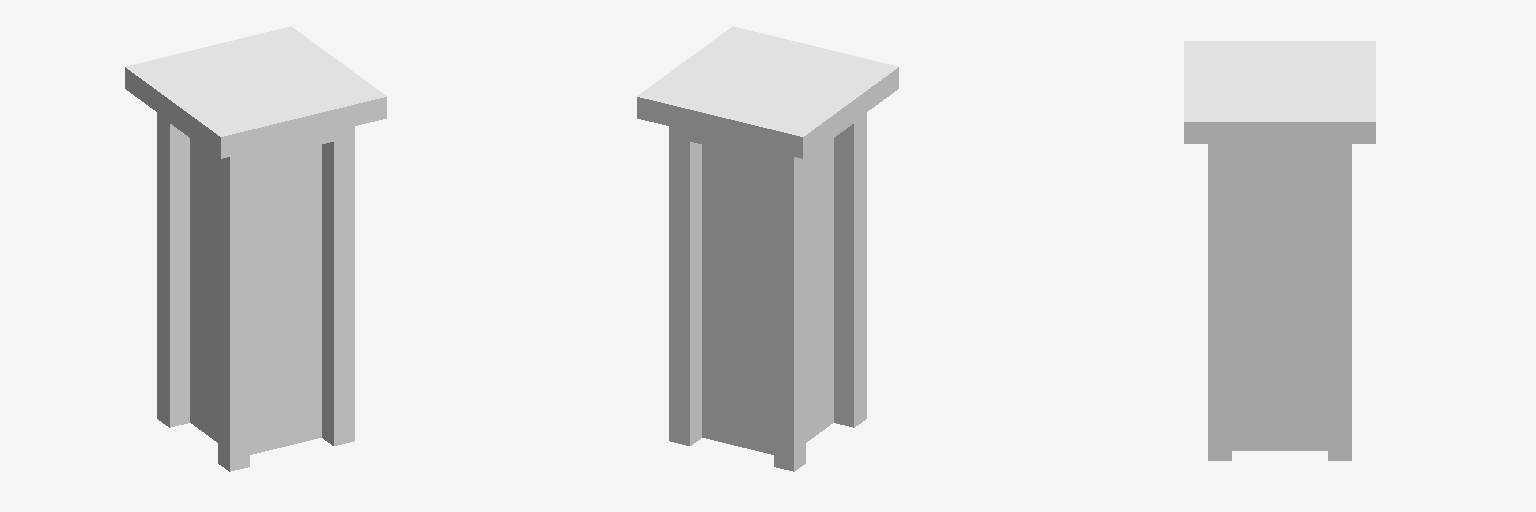
Rendered from PillarTopTile001.obj.
The picture shows the model from 3 angles: view 1: azimuth 30°, elevation 25°; view 2: azimuth 150°, elevation 25°; view 3: azimuth 270°, elevation 25°; orthographic projection.
Parts seen in each view (by area): view 1: object 1; view 2: object 1; view 3: object 1.
Boxes of the visible parts, <box> form: object 1: <box>125,26,386,471</box>; object 1: <box>637,26,898,471</box>; object 1: <box>1184,41,1375,460</box>.
Size of the model in its own units: 0.8 by 1.6 by 0.8.